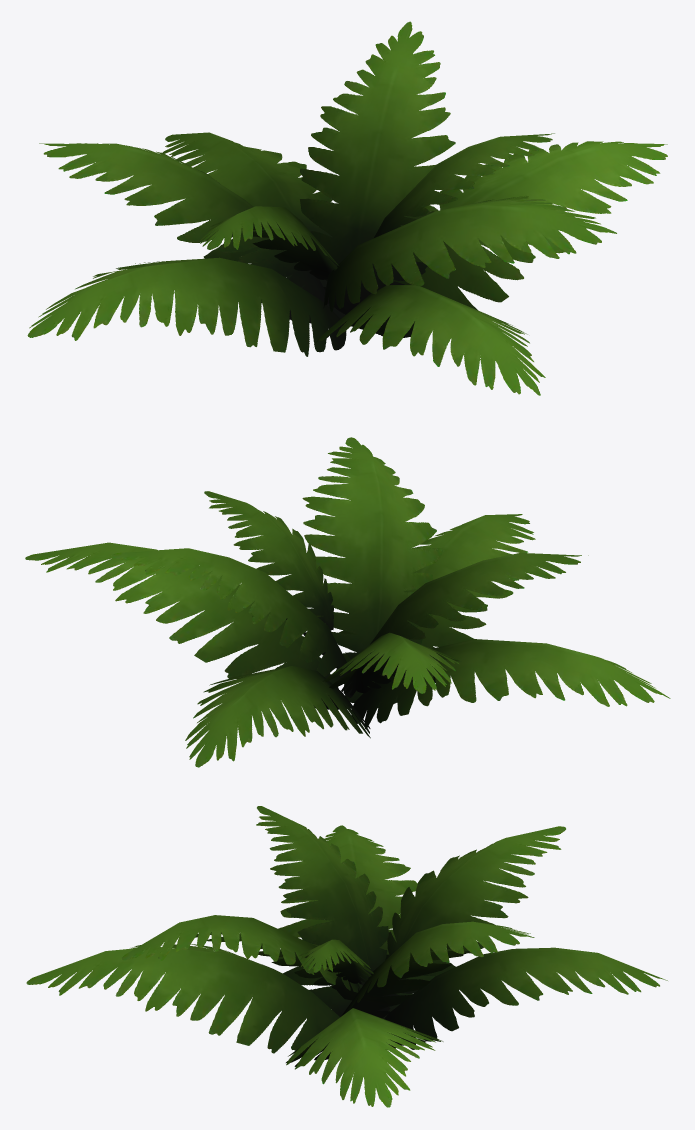
Rendered from fern_1.glb.
3 views of the same model, one above another, from view 1: azimuth 30°, elevation 25°; view 2: azimuth 150°, elevation 25°; view 3: azimuth 270°, elevation 25° (orthographic). The views are drawn at different scales.
Parts seen in each view (by area): view 1: Fern_1; view 2: Fern_1; view 3: Fern_1.
Part boxes in pixels (x1,y1,x2,y2): Fern_1: (27,21,667,395); Fern_1: (25,437,670,767); Fern_1: (26,806,667,1107).
Bounding box in the file's own units: 2.83 × 0.8404 × 2.65.
1 material, 1 textured.
